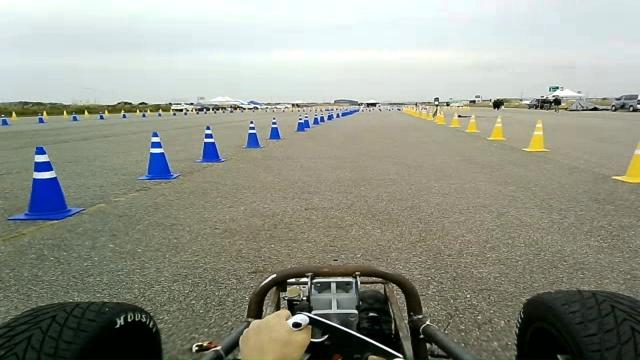blue cone: (6, 145, 86, 221), (136, 131, 180, 180), (194, 125, 226, 163), (242, 120, 264, 148), (265, 116, 283, 140), (294, 115, 306, 132), (301, 114, 311, 128), (312, 114, 320, 124), (318, 115, 325, 123)
yellow cone: (611, 141, 639, 184), (521, 119, 550, 152), (486, 115, 506, 140), (464, 113, 479, 133), (448, 112, 461, 127), (434, 111, 446, 124)
